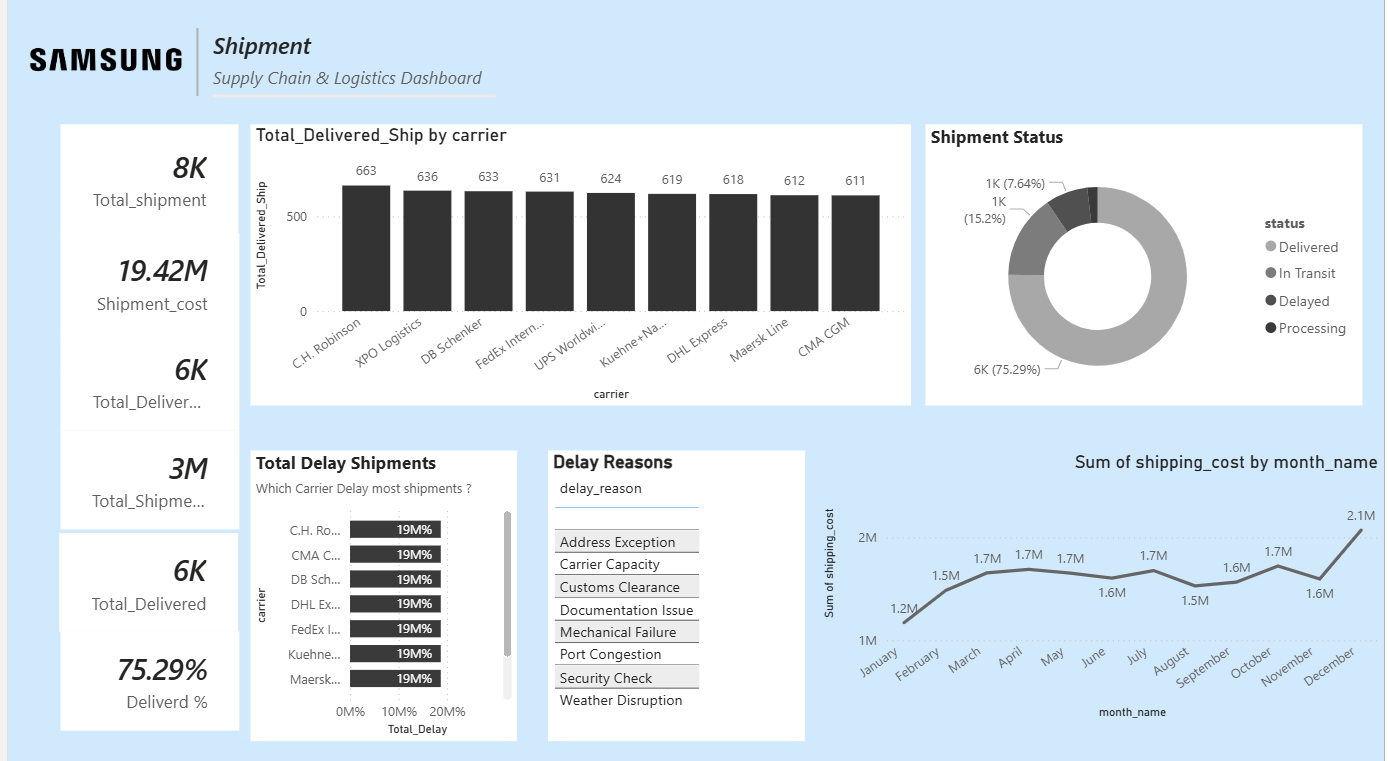

Layout of this report page (visuals, bound fields, positions):
{"tool":"powerbi","page":{"name":"Shipment ","canvas":[1280,720],"ordinal":4},"visuals":[{"type":"shape","title":"Shipment ","box":[190.1,33.3,263,63],"z":4000},{"type":"shape","box":[156.4,32.9,38.4,63.1],"z":5000},{"type":"image","box":[9.6,35.7,156.4,50.8],"z":6000},{"type":"cardVisual","fields":{"Data":["MeasureTable.Total_shipment"]},"box":[49.4,122.2,165.4,101.2],"z":7000},{"type":"cardVisual","fields":{"Data":["MeasureTable.Shipment_cost"]},"box":[48.4,223.8,166.3,91.7],"z":8000},{"type":"cardVisual","fields":{"Data":["MeasureTable.Total_Delivered_Quantity"]},"box":[48.4,315.5,166.3,91.7],"z":9000},{"type":"cardVisual","fields":{"Data":["MeasureTable.Total_Shipment_Quntity"]},"box":[48.4,407.2,166.3,91.7],"z":10000},{"type":"cardVisual","fields":{"Data":["MeasureTable.Total_Delivered_Ship"]},"box":[47.7,502.6,166.3,91.7],"z":11000},{"type":"shape","box":[512.4,337.5,227.4,59.9],"z":12000},{"type":"lineChart","fields":{"Category":["dim_date.month_name"],"Y":["Sum(fact_shipment.shipping_cost)"]},"box":[754,425.9,526,254.6],"z":14000},{"type":"clusteredBarChart","title":"Total Delay Shipments ","fields":{"Category":["fact_shipment.carrier"],"Y":["MeasureTable.Total_Delay"]},"box":[225,425.5,248.2,270.2],"z":15000},{"type":"cardVisual","fields":{"Data":["MeasureTable.Deliverd %"]},"box":[48.9,594.3,166.3,91.7],"z":17000},{"type":"tableEx","title":"Delay Reasons","fields":{"Values":["fact_shipment.delay_reason"]},"box":[501.9,425.9,238.9,270.2],"z":18000},{"type":"clusteredColumnChart","fields":{"Category":["fact_shipment.carrier"],"Y":["MeasureTable.Total_Delivered_Ship"]},"box":[225.6,121.9,614.1,261.8],"z":18001},{"type":"donutChart","title":"Shipment Status ","fields":{"Category":["fact_shipment.status"],"Y":["MeasureTable.Total_shipment"]},"box":[853,121.9,406.6,261.8],"z":18002}]}

Visuals, with their boxes in screenshot pixels (x1, y1, x2, y2), scaled from the page's 1280x720 canvas onto the 1388x761 screenshot:
"Shipment " shape: locate(206, 35, 491, 102)
shape: locate(170, 35, 211, 101)
image: locate(10, 38, 180, 91)
cardVisual - MeasureTable.Total_shipment: locate(54, 129, 233, 236)
cardVisual - MeasureTable.Shipment_cost: locate(52, 237, 233, 333)
cardVisual - MeasureTable.Total_Delivered_Quantity: locate(52, 333, 233, 430)
cardVisual - MeasureTable.Total_Shipment_Quntity: locate(52, 430, 233, 527)
cardVisual - MeasureTable.Total_Delivered_Ship: locate(52, 531, 232, 628)
shape: locate(556, 357, 802, 420)
lineChart - dim_date.month_name x Sum(fact_shipment.shipping_cost): locate(818, 450, 1387, 719)
"Total Delay Shipments " clusteredBarChart: locate(244, 450, 513, 735)
cardVisual - MeasureTable.Deliverd %: locate(53, 628, 233, 725)
"Delay Reasons" tableEx: locate(544, 450, 803, 736)
clusteredColumnChart - fact_shipment.carrier x MeasureTable.Total_Delivered_Ship: locate(245, 129, 911, 406)
"Shipment Status " donutChart: locate(925, 129, 1366, 406)
